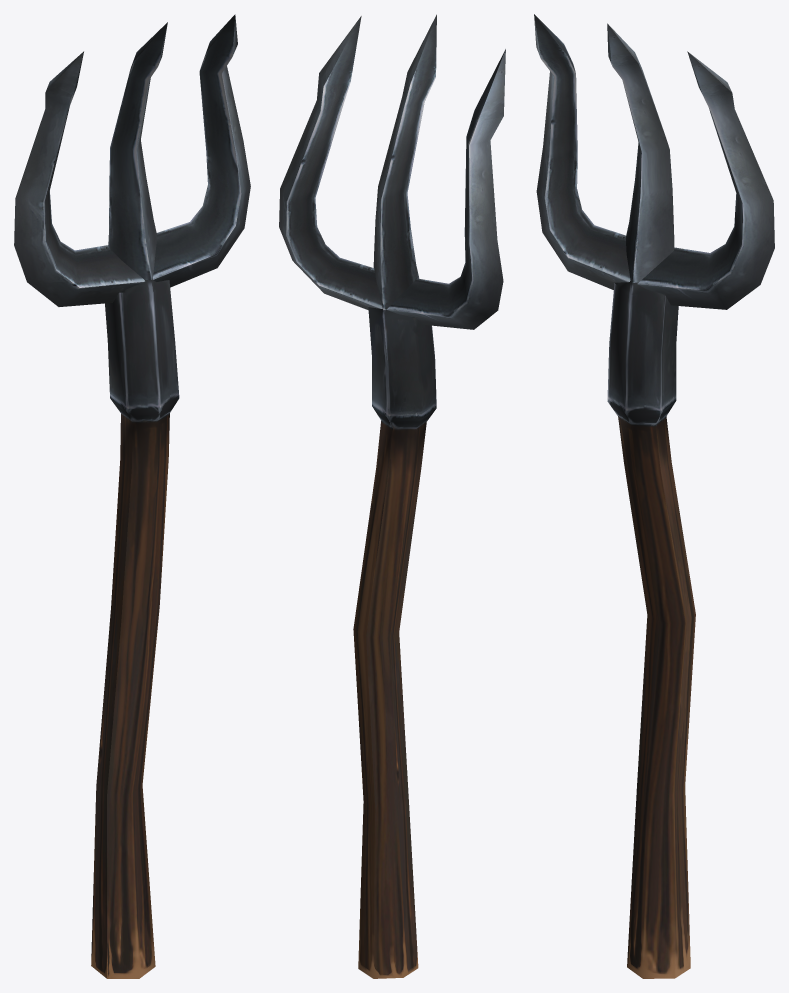
File: Pitchfork.fbx
The picture shows the model from 3 angles, left to right: view 1: azimuth 30°, elevation 25°; view 2: azimuth 150°, elevation 25°; view 3: azimuth 330°, elevation 25°; orthographic projection. The views are drawn at different scales.
Visible parts, largest first — view 1: Pitchfork; view 2: Pitchfork; view 3: Pitchfork.
Boxes of the visible parts, x1,y1,x2,y2 form: Pitchfork: (14,14,250,978); Pitchfork: (279,14,505,978); Pitchfork: (534,14,774,978).
Bounding box in the file's own units: 0.3231 × 1.27 × 0.1508.
